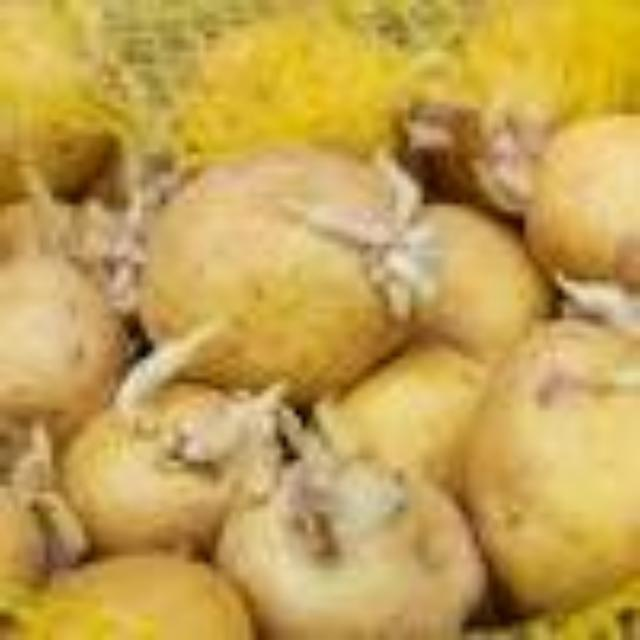Sprouted potato: (110, 139, 438, 413), (456, 302, 640, 622), (36, 373, 310, 577)
